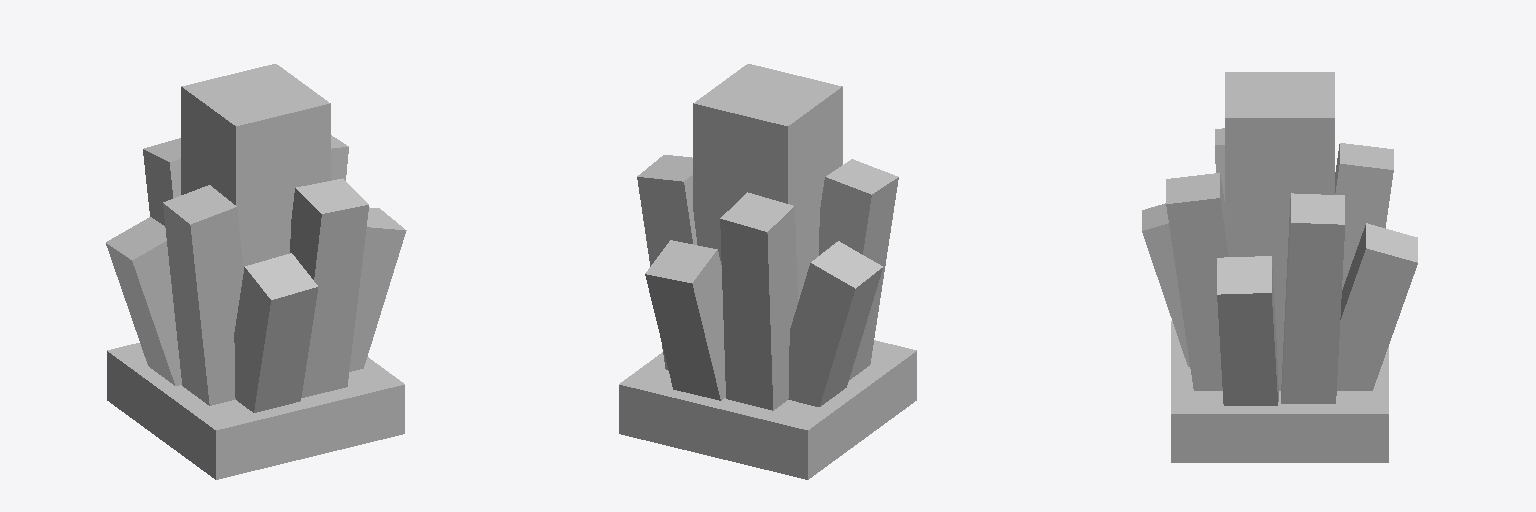
File: pollinator_prism_earth.obj
3 views of the same model, side by side, from view 1: azimuth 30°, elevation 25°; view 2: azimuth 150°, elevation 25°; view 3: azimuth 270°, elevation 25° (orthographic).
Visible parts, largest first — view 1: cube; view 2: cube; view 3: cube.
Boxes of the visible parts, box(x1,y1,x2,y2) form: cube: box(106, 64, 406, 479); cube: box(619, 64, 916, 479); cube: box(1142, 72, 1417, 462).
Bounding box in the file's own units: 0.6321 × 0.8125 × 0.6323.